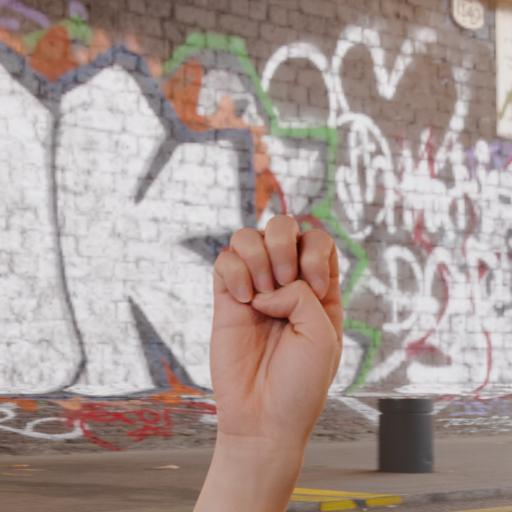E: (208, 212, 346, 444)
